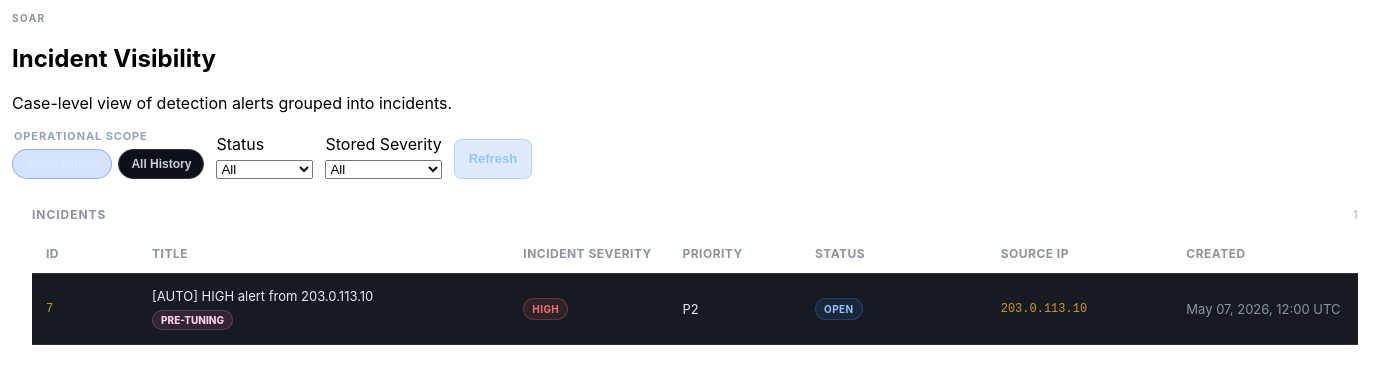
IncidentsPanel › shows detail error state
Step 1. Click the text "[AUTO] HIGH alert from 203.0.113.10" → (263, 296), box [152, 288, 373, 304]
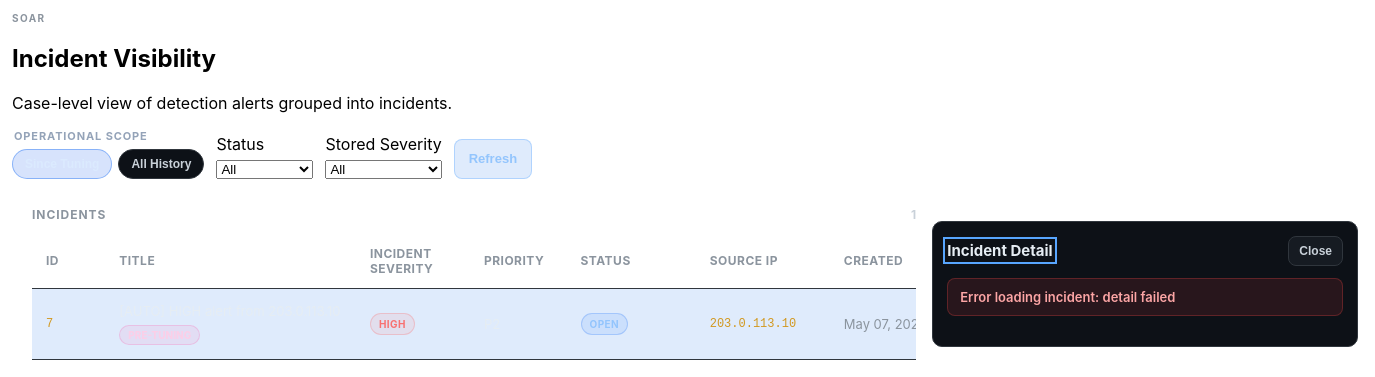
Now the text "Error loading incident: detail failed" is shown, box [947, 278, 1343, 316]
